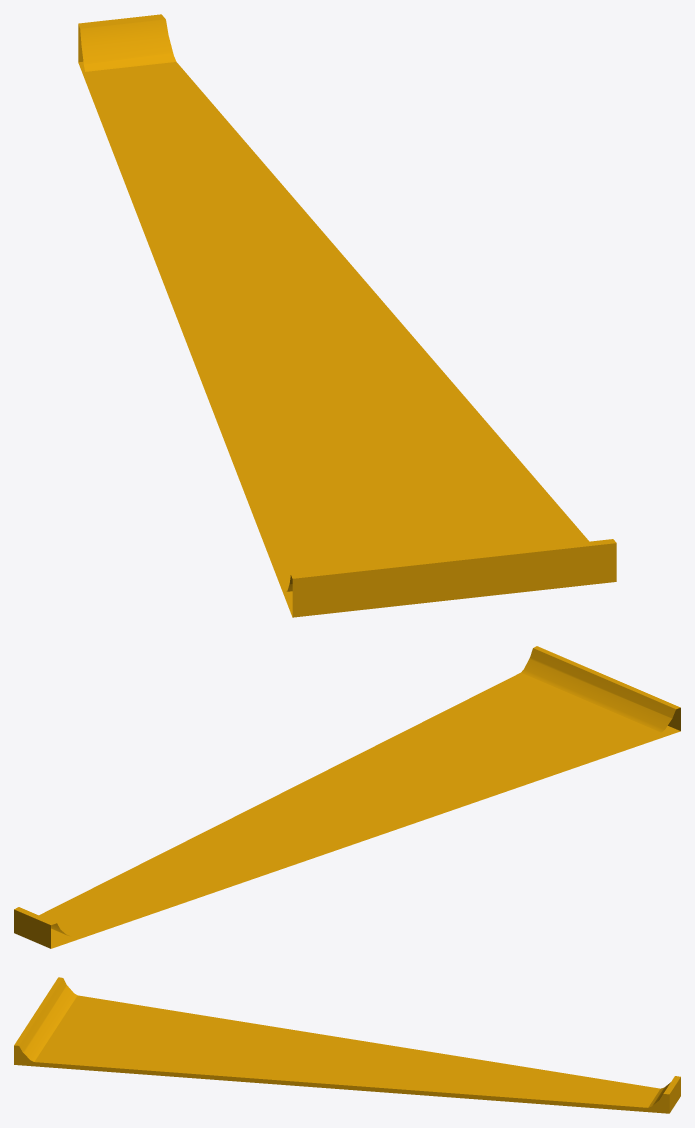
The model's file is 14mTrack_Blockout_9DTurn.fbx.
3 renders of one model, top to bottom at view 1: azimuth 30°, elevation 25°; view 2: azimuth 150°, elevation 25°; view 3: azimuth 270°, elevation 25°, orthographic. The views are drawn at different scales.
Visible parts, largest first — view 1: polySurface109; view 2: polySurface109; view 3: polySurface109.
Part boxes in pixels (x1,y1,x2,y2): polySurface109: (78, 14, 616, 617); polySurface109: (14, 646, 680, 948); polySurface109: (14, 977, 680, 1113).
Bounding box in the file's own units: 583 × 45 × 1403.
